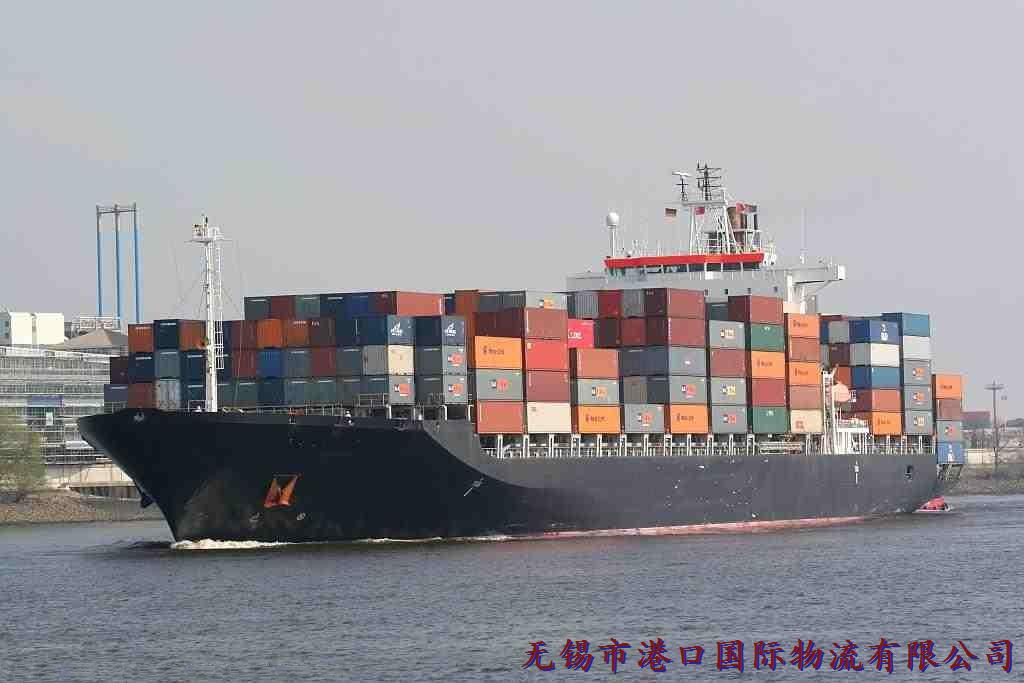container: (66, 214, 1024, 545)
